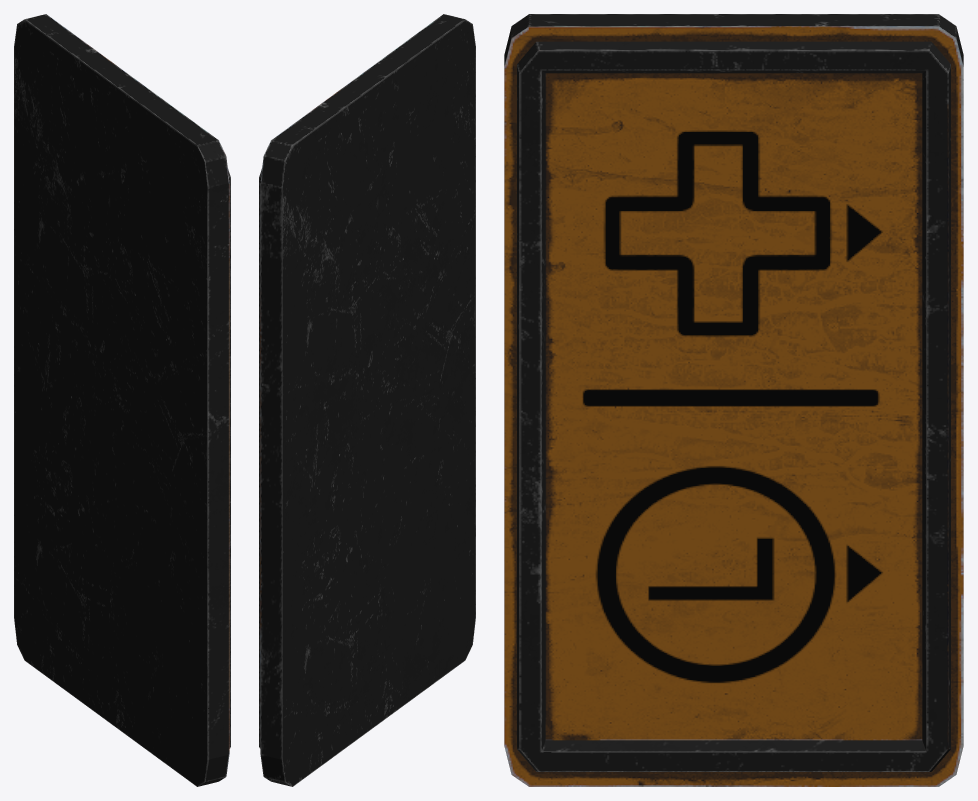
The model's file is PadDown.gltf.
3 renders of one model, left to right at view 1: azimuth 30°, elevation 25°; view 2: azimuth 150°, elevation 25°; view 3: azimuth 270°, elevation 25°, orthographic. The views are drawn at different scales.
Visible parts, largest first — view 1: Cube.012; view 2: Cube.012; view 3: Cube.012.
Boxes of the visible parts, <box> form: Cube.012: <box>14,14,230,786</box>; Cube.012: <box>259,14,475,786</box>; Cube.012: <box>504,14,963,786</box>.
Bounding box in the file's own units: 0.1759 × 3.65 × 2.
Materials: 1 (1 with a texture image).
